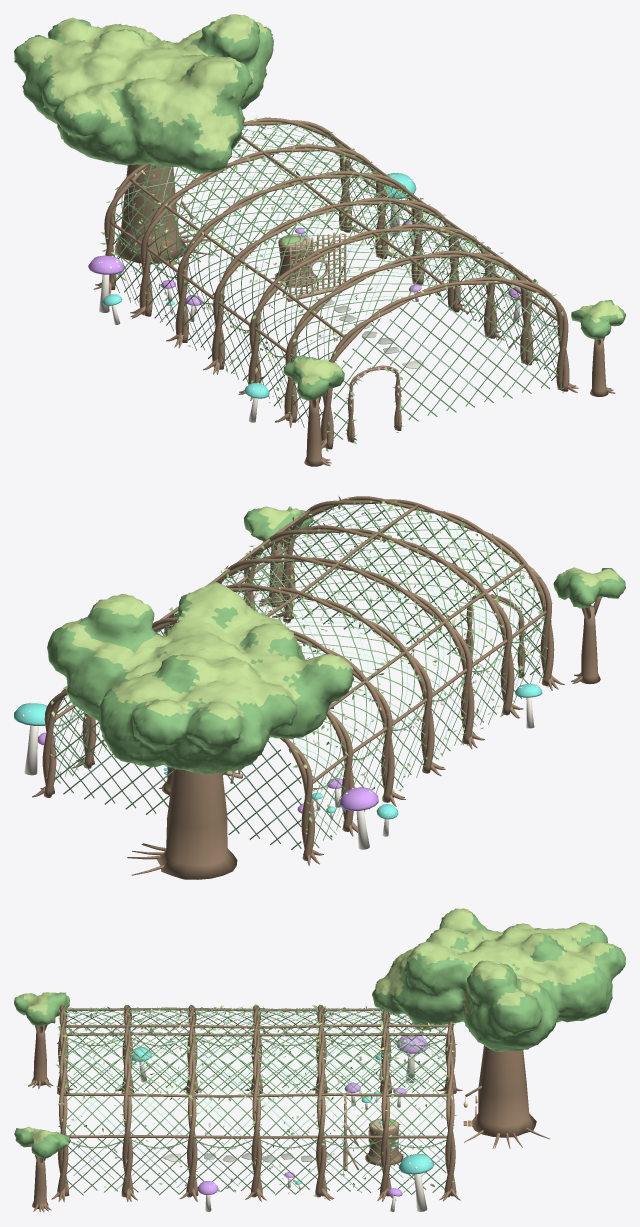
File: GroveCage.fbx
3 renders of one model, top to bottom at view 1: azimuth 30°, elevation 25°; view 2: azimuth 150°, elevation 25°; view 3: azimuth 270°, elevation 25°, orthographic. The views are drawn at different scales.
Visible parts, largest first — view 1: GroveVineNet, GroveArches, GroveCanopyLight, GroveCanopy, GroveTrunks, GroveBranches, GroveGlowVines, GroveLeaves, GroveScreen, GroveLeavesLight, GroveStems, GroveCapsViolet (+2 smaller); view 2: GroveCanopy, GroveVineNet, GroveArches, GroveCanopyLight, GroveTrunks, GroveBranches, GroveGlowVines, GroveLeaves, GroveStems, GroveCapsTeal, GroveLeavesLight, GroveCapsViolet; view 3: GroveVineNet, GroveCanopy, GroveArches, GroveCanopyLight, GroveBranches, GroveTrunks, GroveGlowVines, GroveLeaves, GroveLeavesLight, GroveStems, GroveCapsViolet, GroveCapsTeal (+3 smaller).
Part boxes in pixels (x1,y1,x2,y2): GroveVineNet: [111, 123, 559, 439]; GroveArches: [104, 118, 569, 449]; GroveCanopyLight: [23, 14, 623, 386]; GroveCanopy: [14, 14, 625, 400]; GroveTrunks: [115, 164, 615, 466]; GroveBranches: [93, 132, 578, 448]; GroveGlowVines: [113, 124, 559, 422]; GroveLeaves: [100, 117, 563, 451]; GroveScreen: [282, 232, 346, 301]; GroveLeavesLight: [106, 117, 564, 441]; GroveStems: [99, 199, 520, 422]; GroveCapsViolet: [88, 220, 520, 305]; GroveCanopy: [47, 506, 625, 774]; GroveVineNet: [53, 501, 546, 849]; GroveArches: [42, 496, 554, 860]; GroveCanopyLight: [59, 506, 619, 719]; GroveTrunks: [127, 541, 602, 879]; GroveBranches: [32, 504, 564, 865]; GroveGlowVines: [52, 505, 540, 848]; GroveLeaves: [45, 496, 552, 854]; GroveStems: [24, 697, 534, 849]; GroveCapsTeal: [14, 684, 542, 819]; GroveLeavesLight: [50, 496, 547, 843]; GroveCapsViolet: [38, 732, 378, 813]; GroveVineNet: [64, 1007, 446, 1195]; GroveCanopy: [14, 911, 625, 1158]; GroveArches: [57, 1005, 456, 1197]; GroveCanopyLight: [19, 908, 613, 1147]; GroveBranches: [51, 1007, 462, 1202]; GroveTrunks: [28, 1025, 549, 1212]; GroveGlowVines: [73, 1008, 444, 1192]; GroveLeaves: [56, 1004, 456, 1199]; GroveLeavesLight: [56, 1005, 456, 1198]; GroveStems: [139, 1053, 427, 1211]; GroveCapsViolet: [197, 1036, 427, 1196]; GroveCapsTeal: [132, 1047, 433, 1184].
Bounding box in the file's own units: 1062 × 677 × 1896.
